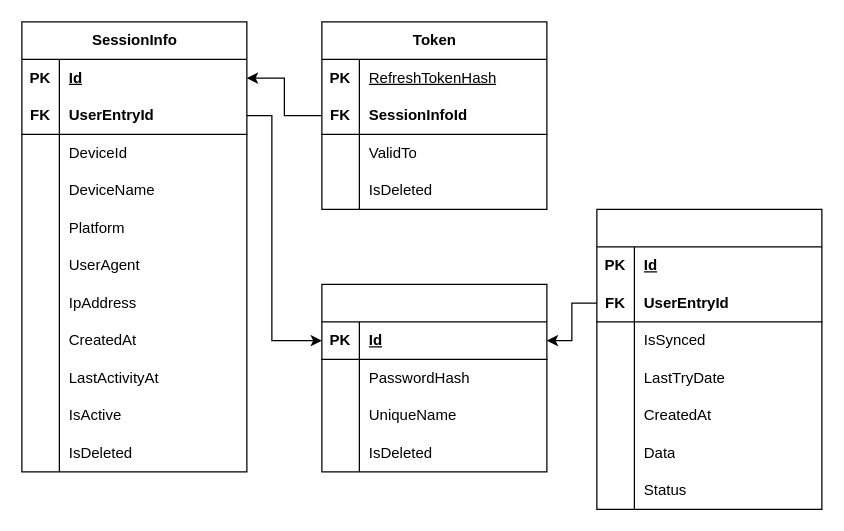
Some shapes in this 844 by 531 pixel diagram are drawn without their labels. Each missing label, with the box of its shape:
UserEntry: (321, 283, 547, 472)
UserEntryOutbox: (596, 208, 822, 509)
